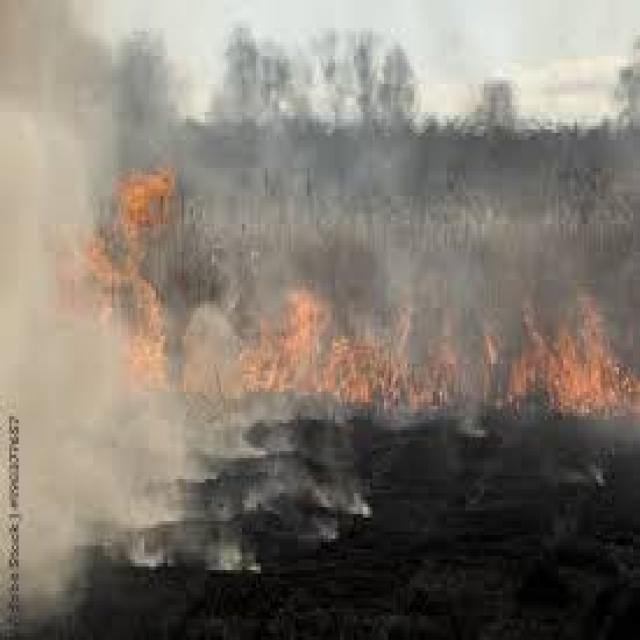Fire: (56, 166, 176, 390), (233, 296, 448, 418), (515, 296, 640, 418)
Smoke: (0, 0, 640, 321), (0, 0, 212, 533)
